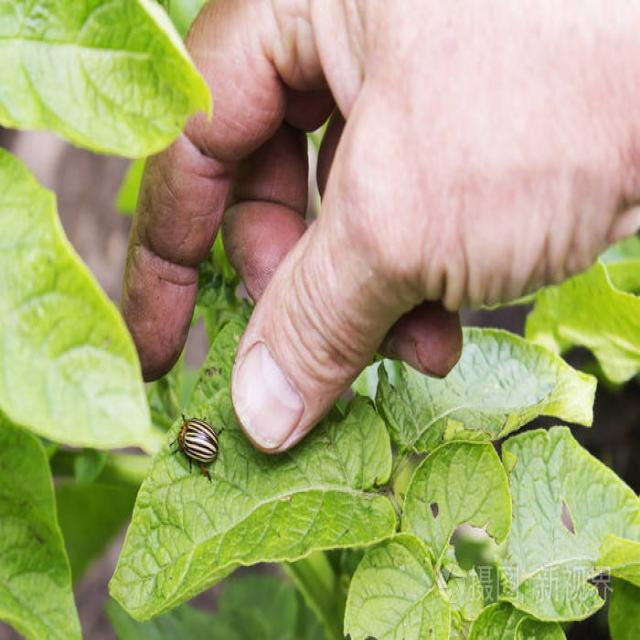ShuCaiHuaBanChong-Grown-: (163, 402, 231, 491)
